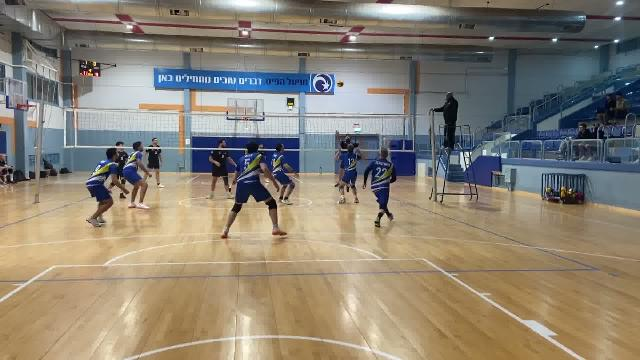ball: (334, 80, 345, 90)
